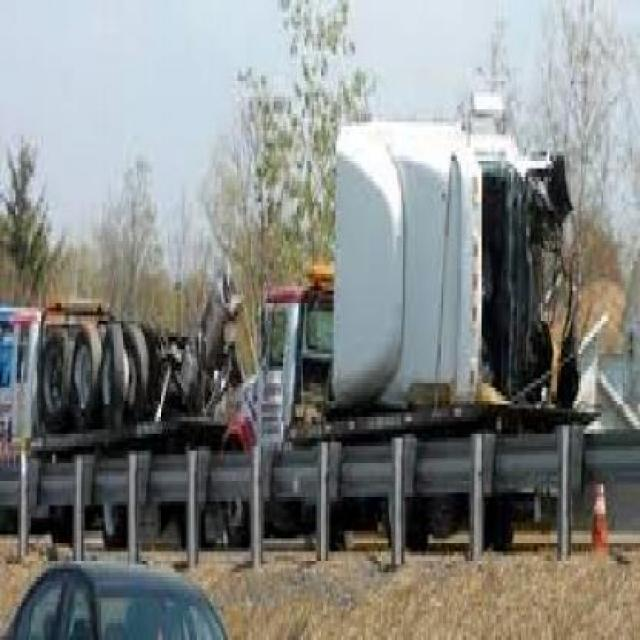accident: (44, 115, 640, 553)
